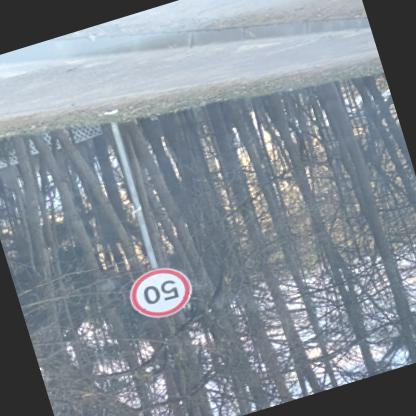speedlimit: (127, 259, 200, 324)
